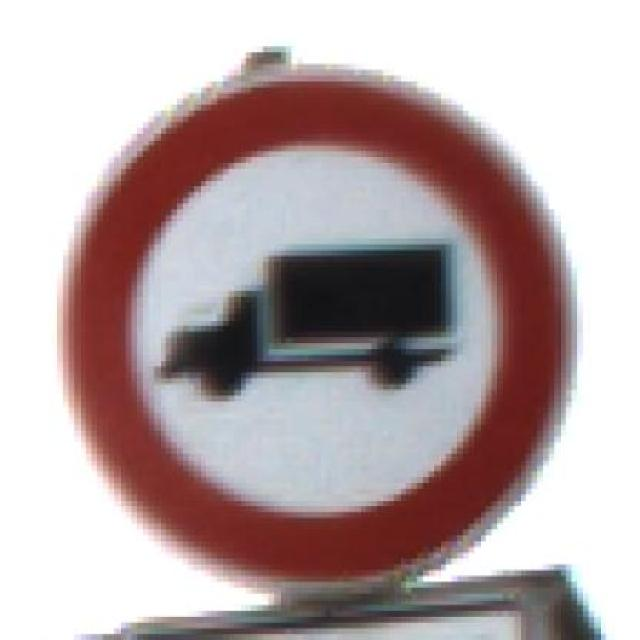Truck traffic is prohibited: (63, 58, 606, 605)
